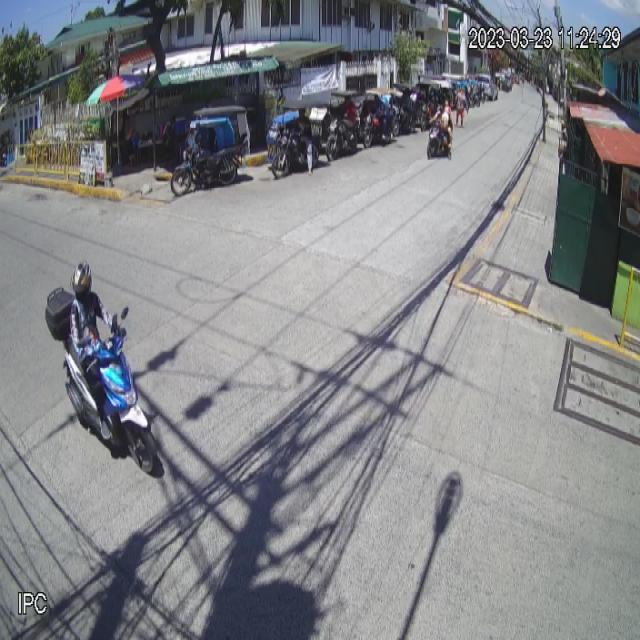Motorcycle: (44, 285, 160, 477)
Tricycle: (169, 104, 252, 197)
